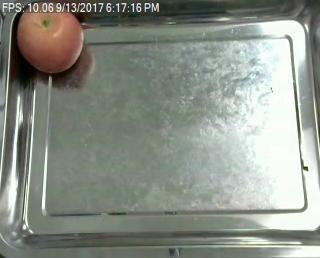apple: (17, 12, 83, 74)
